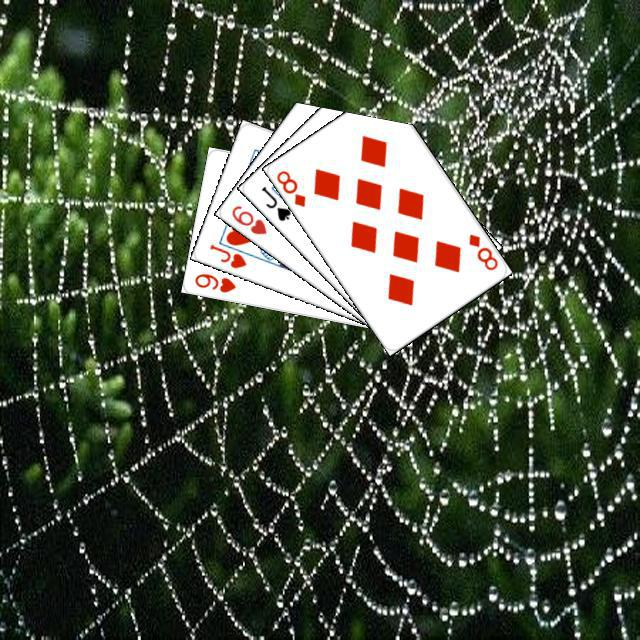6h: (226, 200, 268, 236)
8d: (271, 165, 307, 209), (464, 229, 500, 272)
9h: (190, 268, 238, 294)
Jh: (205, 239, 248, 270)
Js: (256, 181, 293, 223)
